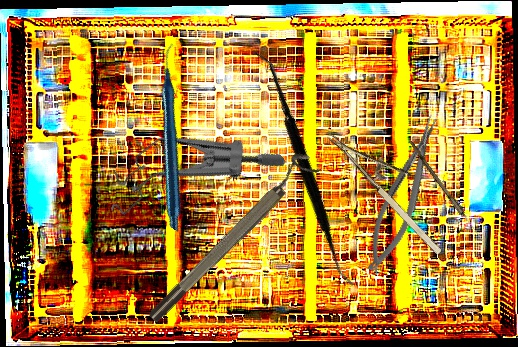Fixation Ring: (138, 147, 322, 327)
Handpiece: (85, 43, 264, 232)
Needle Holder: (326, 111, 463, 259), (354, 111, 454, 279)
Spatula Surgical: (176, 50, 430, 288)
Speculum: (92, 83, 288, 265)
Surgical Spoon: (406, 140, 486, 242)
